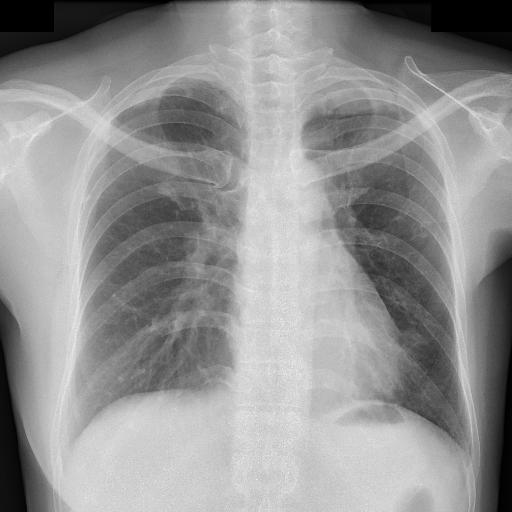Pleural thickening: (241, 58, 356, 98), (78, 56, 166, 92)
Pulmonary fibrosis: (380, 181, 416, 220)
